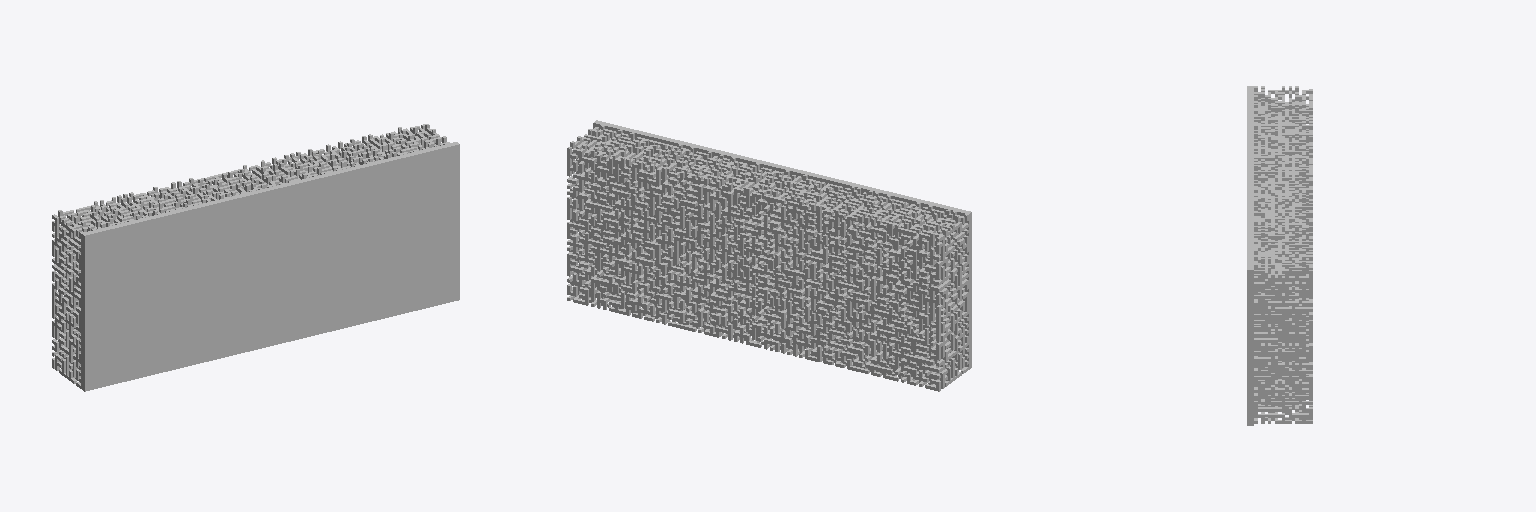
The model's file is button3.obj.
3 views of the same model, side by side, from view 1: azimuth 30°, elevation 25°; view 2: azimuth 150°, elevation 25°; view 3: azimuth 270°, elevation 25° (orthographic).
Visible parts, largest first — view 1: object 1; view 2: object 1; view 3: object 1.
Part boxes in pixels (x1,y1,x2,y2): object 1: (52, 124, 459, 391); object 1: (567, 120, 971, 391); object 1: (1247, 86, 1312, 425).
Size of the model in its own units: 12.6 by 5 by 1.9.